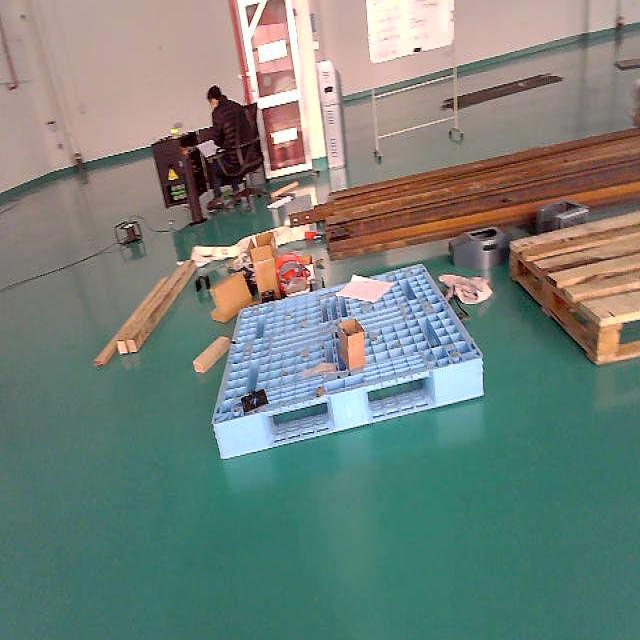euro: (510, 211, 639, 363)
